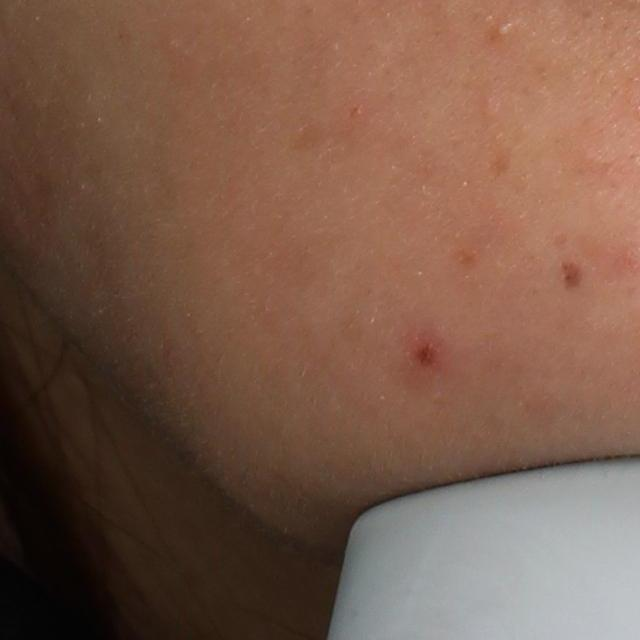comedo: (477, 93, 506, 120), (496, 21, 514, 38)
nevus: (555, 256, 586, 290)
papule: (407, 330, 444, 373)
